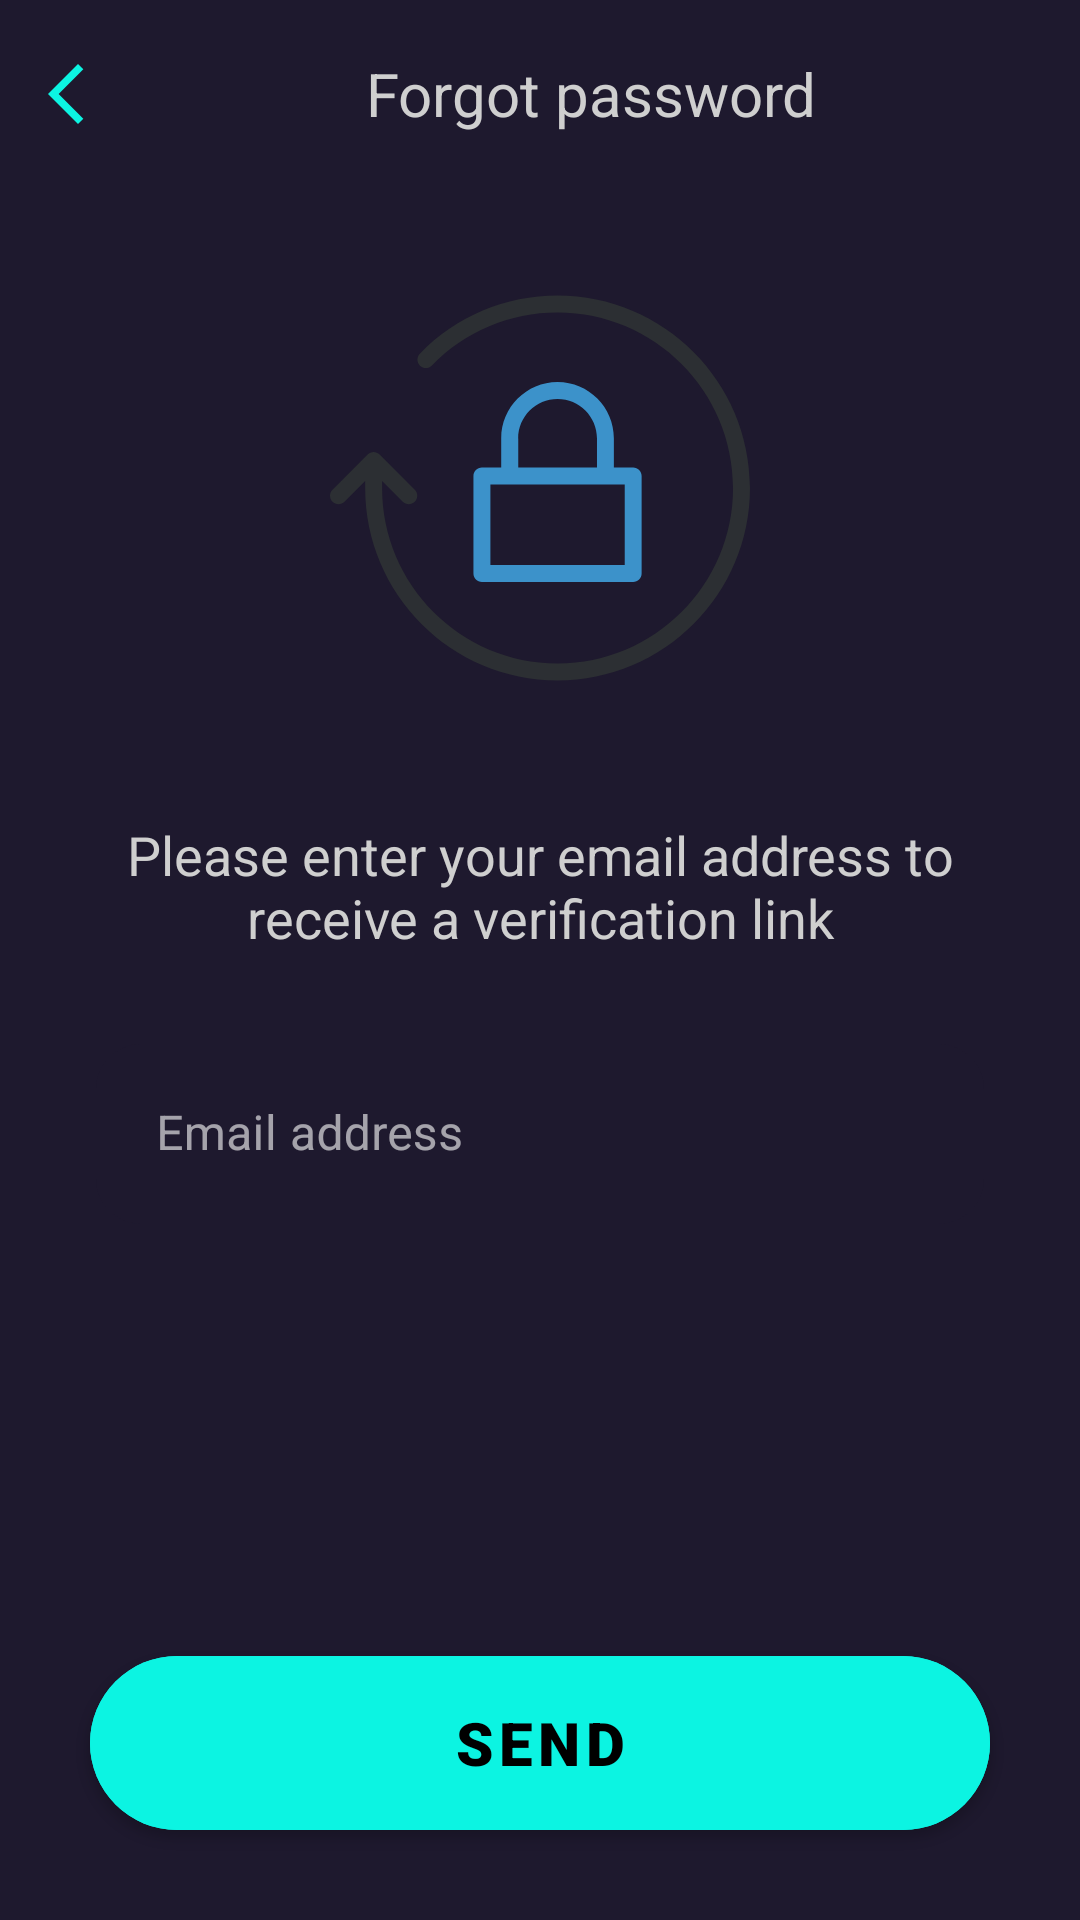

Icons on this 1080*1920 Android screen, each with its box as Rect(x1, y1, x2, y2):
arrow back: Rect(48, 64, 83, 124)
